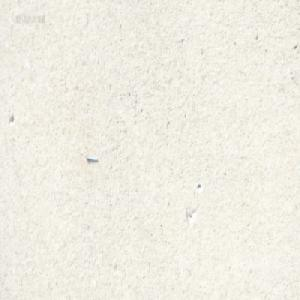Nail: (85, 152, 98, 161)
